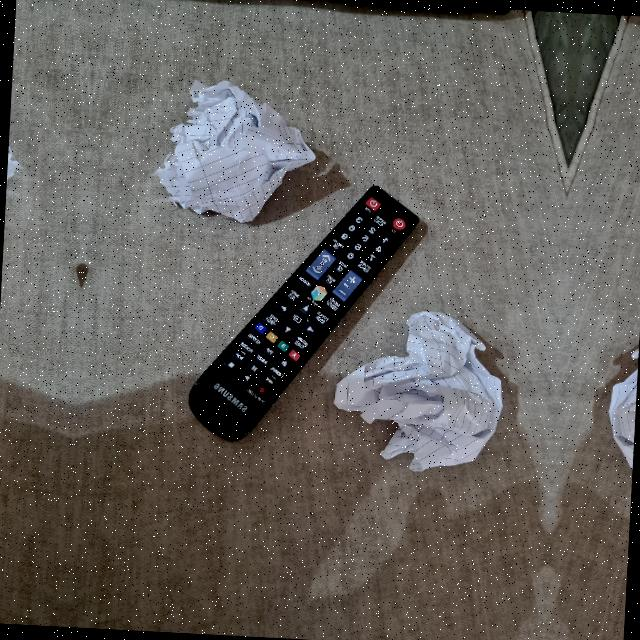paper: (327, 308, 509, 484), (155, 82, 324, 228), (603, 322, 640, 491), (5, 74, 22, 212)
